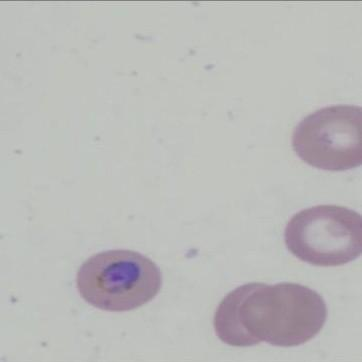Infected: (77, 249, 162, 311)
Uninfected: (239, 281, 326, 346), (285, 204, 362, 266), (293, 105, 362, 172), (213, 283, 284, 345)
